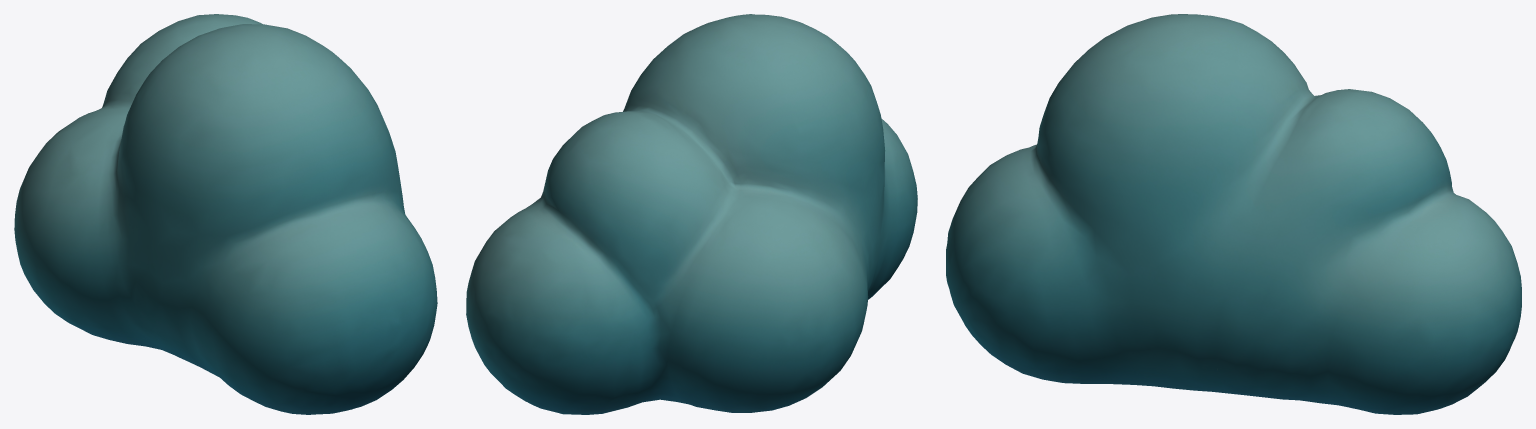
File: icon-cloud.glb
3 views of the same model, side by side, from view 1: azimuth 30°, elevation 25°; view 2: azimuth 150°, elevation 25°; view 3: azimuth 270°, elevation 25° (orthographic). The views are drawn at different scales.
Visible parts, largest first — view 1: tripo_node_kodyurd-model-33____________________; view 2: tripo_node_kodyurd-model-33____________________; view 3: tripo_node_kodyurd-model-33____________________.
Boxes of the visible parts, box(x1,y1,x2,y2) form: tripo_node_kodyurd-model-33____________________: box(14, 14, 437, 414); tripo_node_kodyurd-model-33____________________: box(466, 14, 917, 414); tripo_node_kodyurd-model-33____________________: box(946, 14, 1521, 414).
Bounding box in the file's own units: 0.6934 × 0.6465 × 0.998.
Materials: 1 (1 with a texture image).
